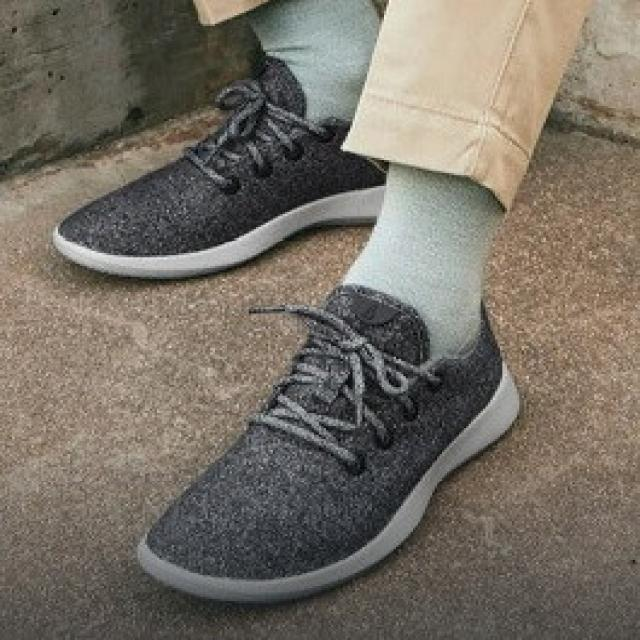shoe: (130, 288, 527, 606), (51, 83, 408, 279)
